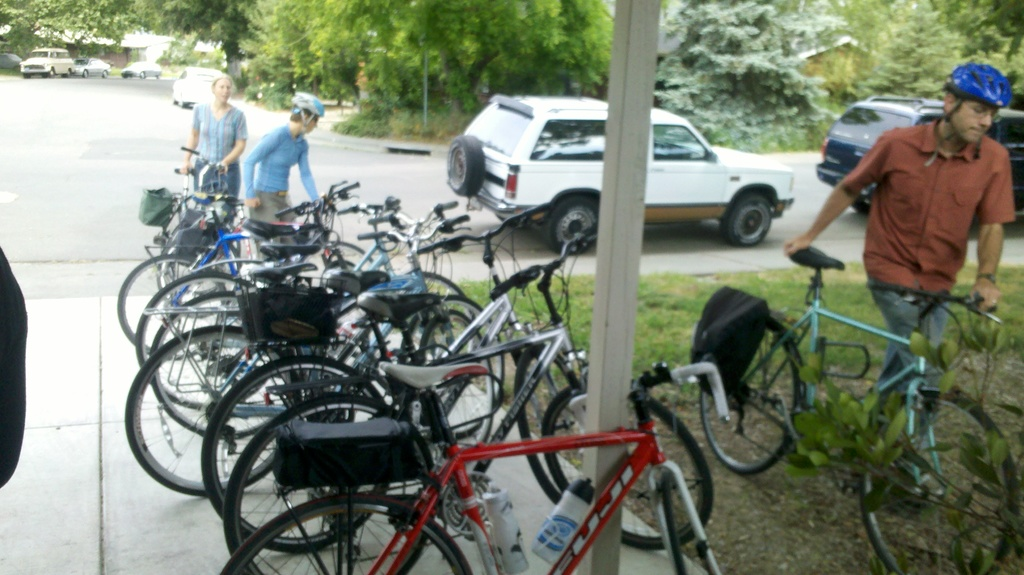Car: (444, 93, 794, 256), (816, 89, 1023, 220), (172, 71, 223, 108), (21, 49, 71, 73), (71, 55, 109, 73), (123, 60, 163, 77)
